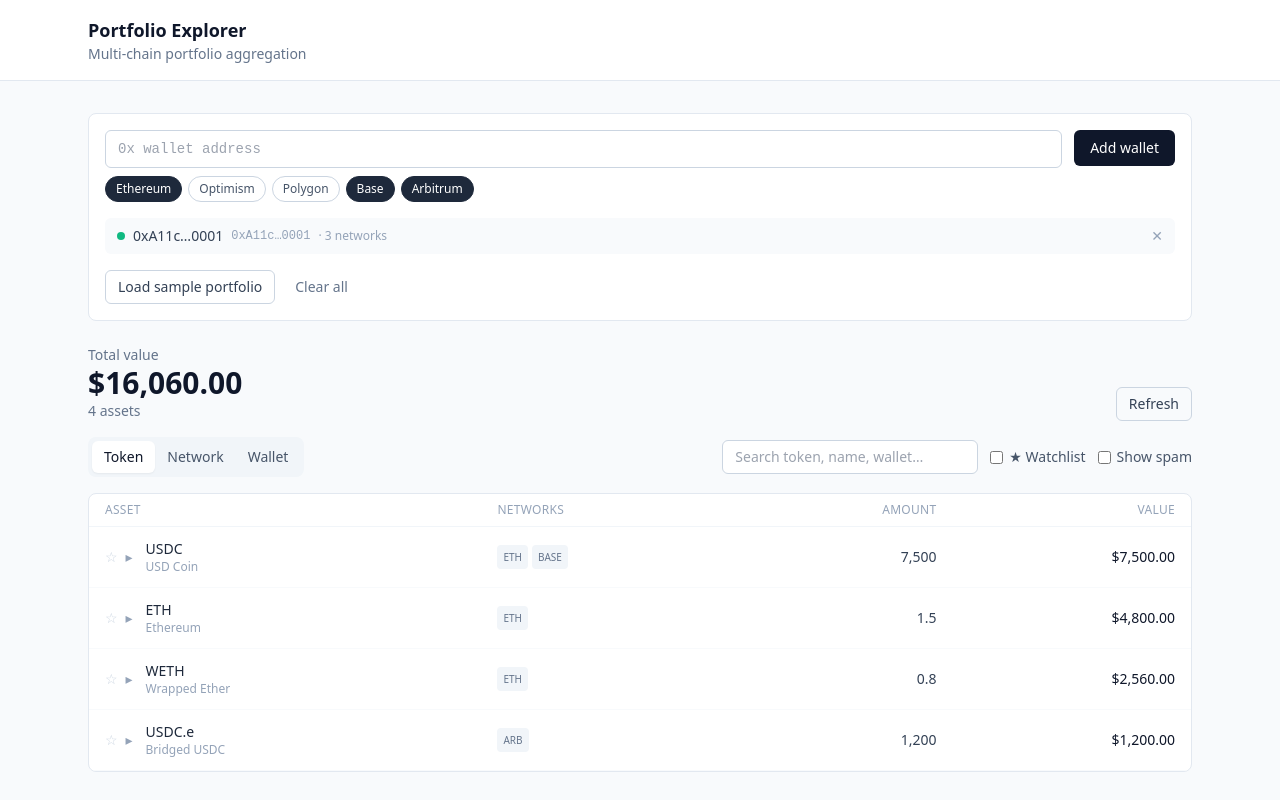
Test: App end-to-end › filters via search
Expected: the text "USDC" is shown, [146, 539, 183, 558]
Type "weth" into the field labelled "Search".
click(850, 457); type("weth")  # box [722, 440, 978, 474]
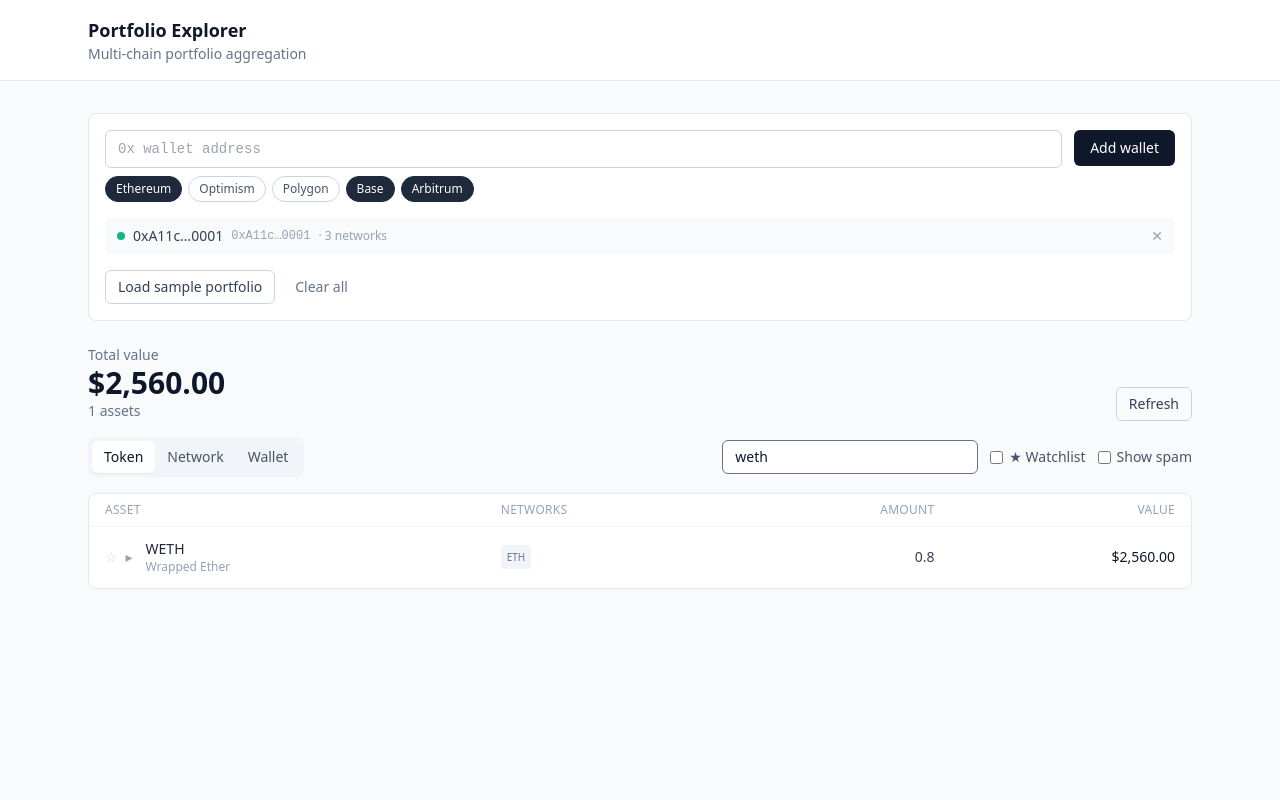
Expected: the text "WETH" is shown, [146, 539, 185, 558]
Now the text "USDC" is gone
